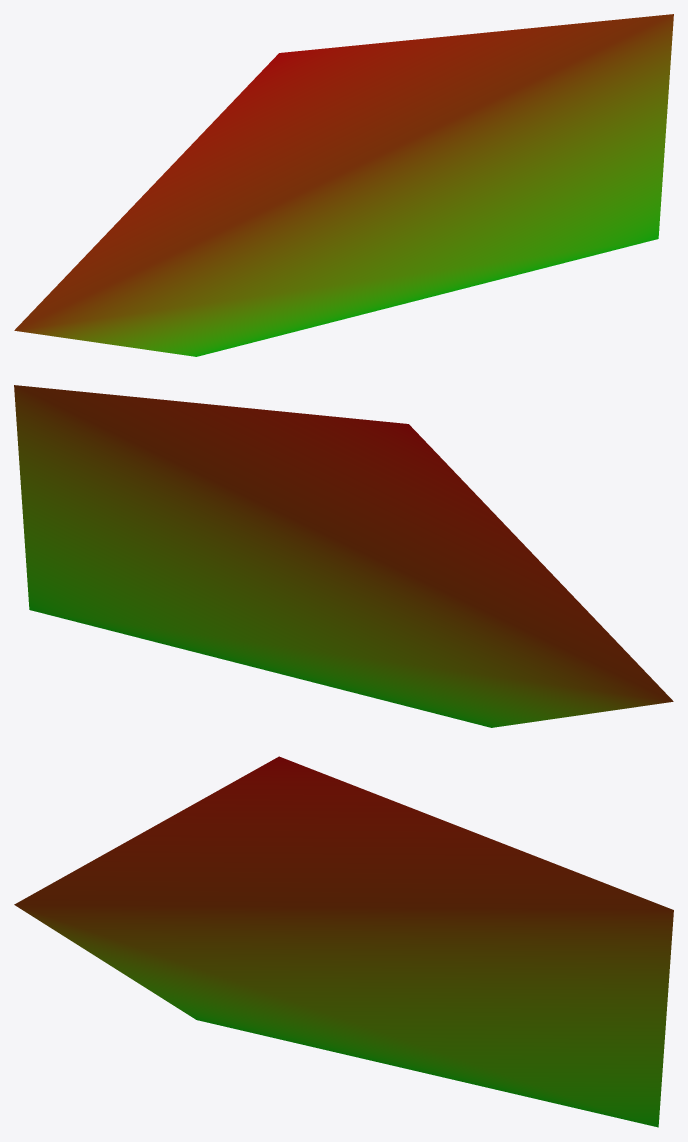
Rendered from Blackberry_LOD4_Var9_vkmofctha.fbx.
3 views of the same model, one above another, from view 1: azimuth 30°, elevation 25°; view 2: azimuth 150°, elevation 25°; view 3: azimuth 330°, elevation 25° (orthographic).
Visible parts, largest first — view 1: _bydx_Var9_LOD4; view 2: _bydx_Var9_LOD4; view 3: _bydx_Var9_LOD4.
Boxes of the visible parts, x1,y1,x2,y2 form: _bydx_Var9_LOD4: [14, 14, 673, 356]; _bydx_Var9_LOD4: [14, 385, 673, 727]; _bydx_Var9_LOD4: [14, 756, 673, 1127].
Bounding box in the file's own units: 121 × 49.56 × 1.08e-05.
